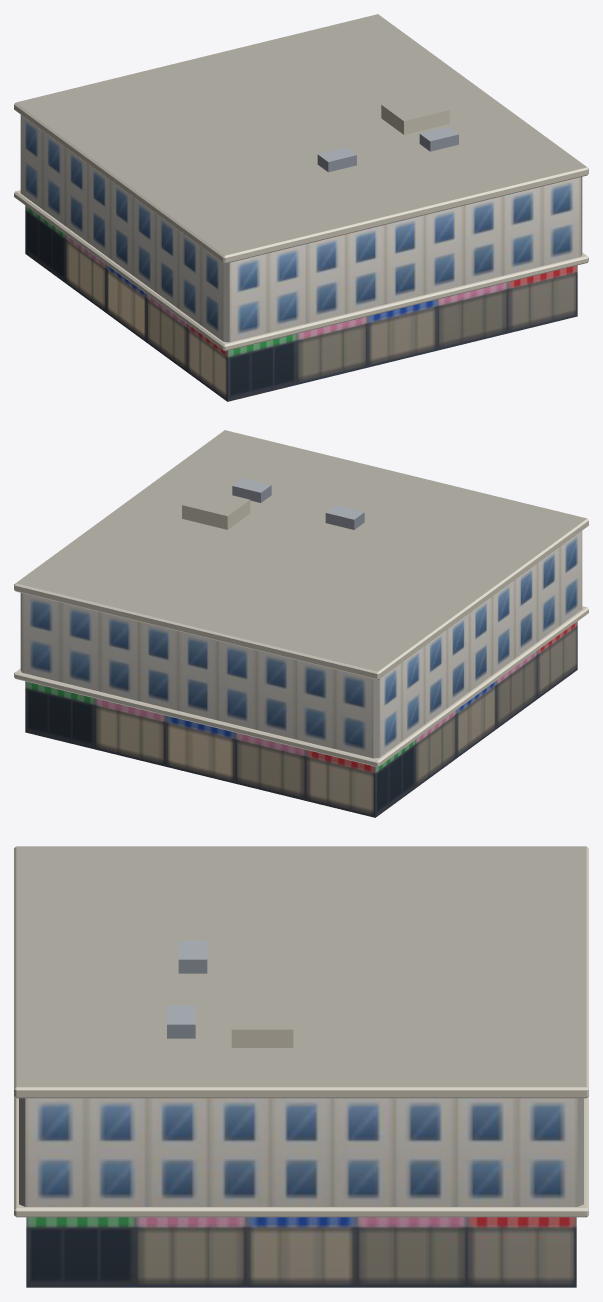
File: building-28x28x12.glb
The picture shows the model from 3 angles, top to bottom: view 1: azimuth 30°, elevation 25°; view 2: azimuth 150°, elevation 25°; view 3: azimuth 270°, elevation 25°; orthographic projection. The views are drawn at different scales.
Parts seen in each view (by area): view 1: building-28x28x12; view 2: building-28x28x12; view 3: building-28x28x12.
Boxes of the visible parts, x1,y1,x2,y2 form: building-28x28x12: (14,14,588,401); building-28x28x12: (14,430,588,817); building-28x28x12: (14,846,588,1287).
Bounding box in the file's own units: 28 × 12 × 28.
Materials: 1 (1 with a texture image).
